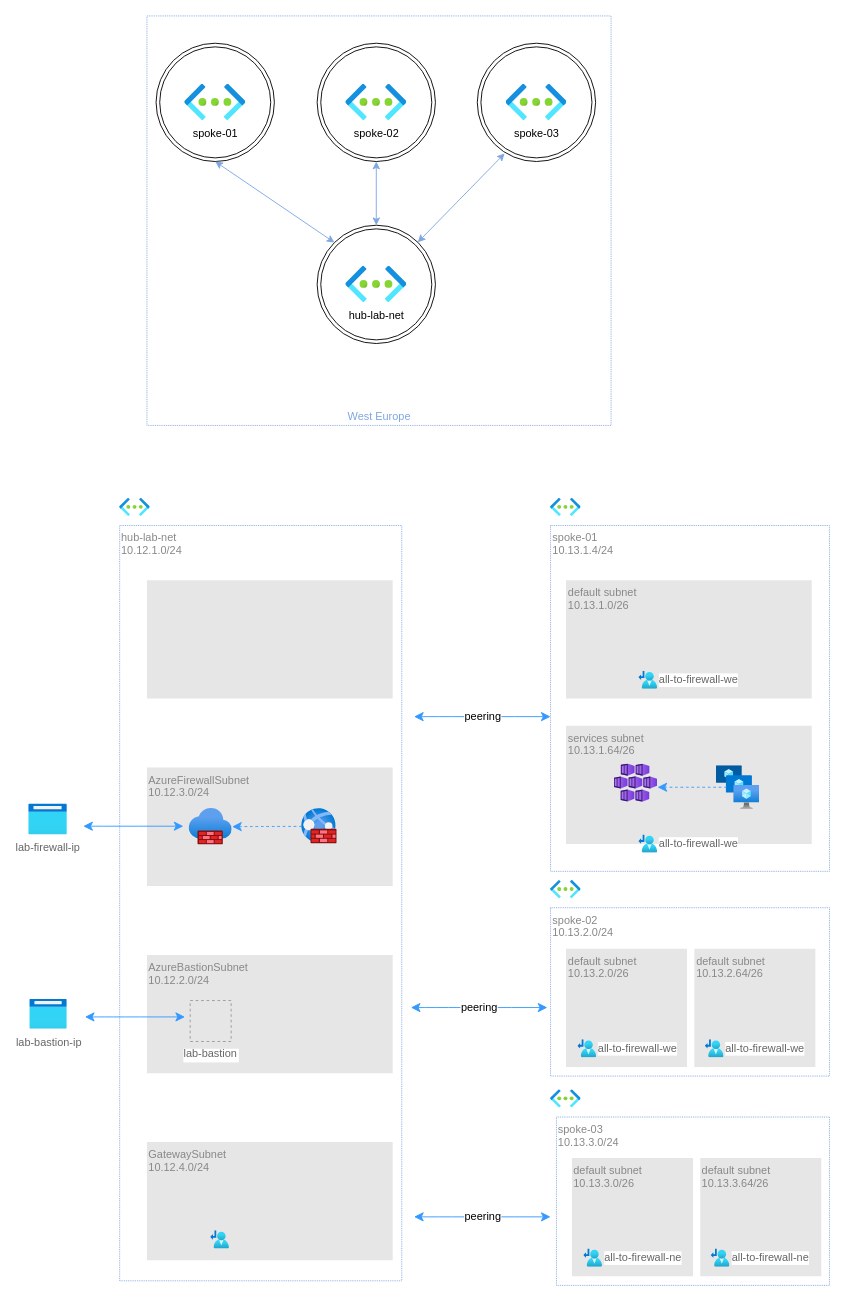
Image size: 845x1301. Some labels were removed from this diagram. Grey dashed boxes stand in for pictures. Here are the shapes that lost their labels. From the top down, the centre of each, then its label:
point (269, 639): default subnet 10.12.1.0/24
point (635, 782): aks-01
point (737, 787): system pool
point (210, 826): lab-firewall 10.12.3.4
point (319, 826): my-firewall-policy
point (219, 1239): gateway-route
